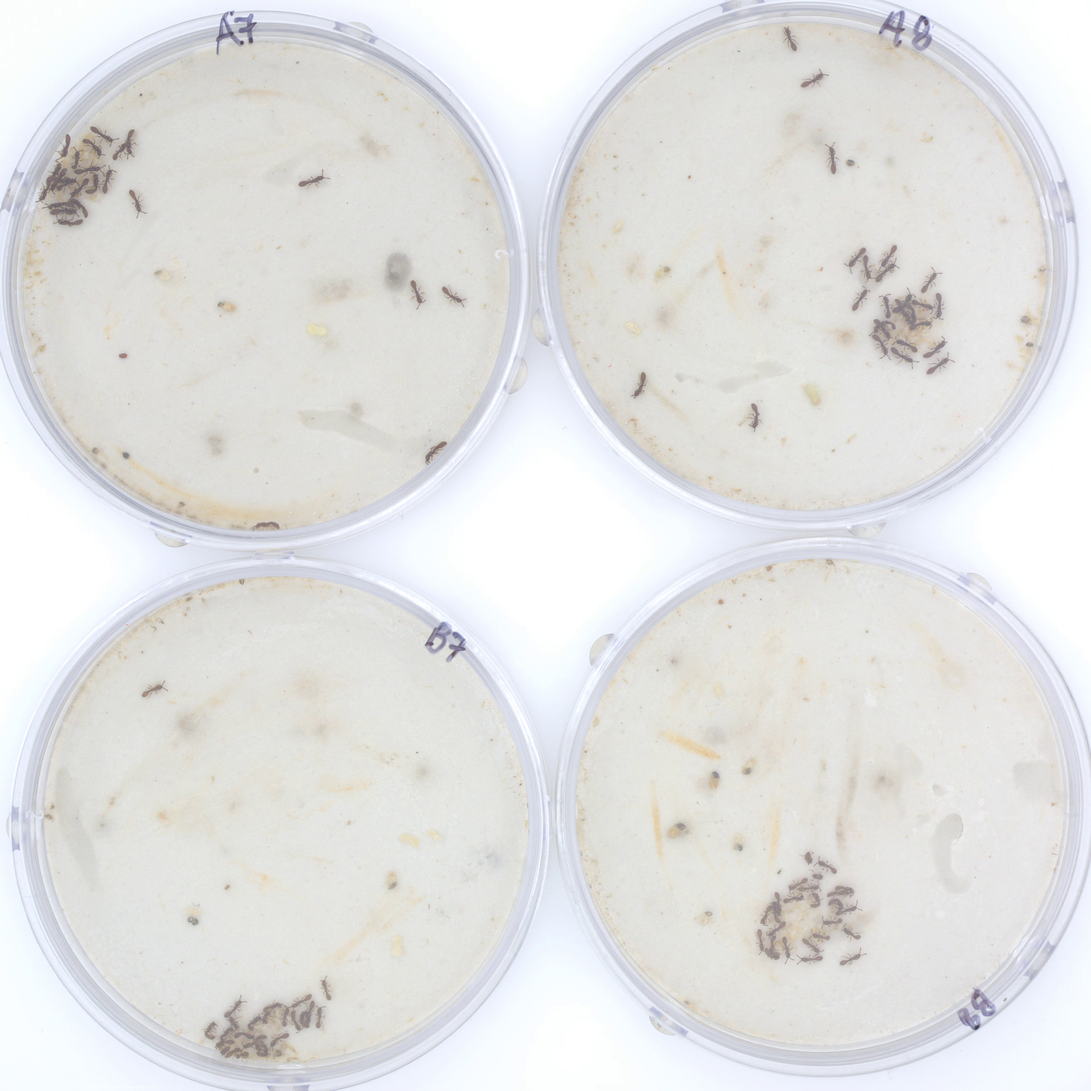brood: (762, 893, 852, 954), (215, 1001, 302, 1062), (43, 127, 105, 207), (873, 295, 943, 354)
